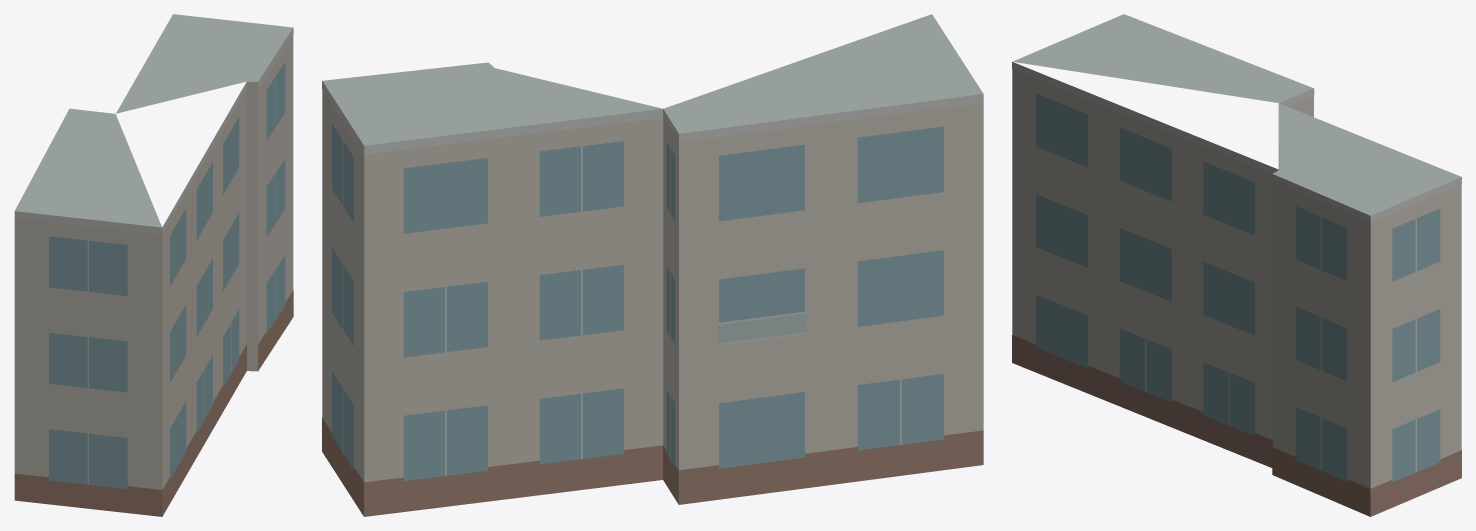
File: survey-upis-33018863.glb
The picture shows the model from 3 angles, left to right: view 1: azimuth 30°, elevation 25°; view 2: azimuth 150°, elevation 25°; view 3: azimuth 270°, elevation 25°; orthographic projection. The views are drawn at different scales.
Parts seen in each view (by area): view 1: survey-upis-33018863.tmp; view 2: survey-upis-33018863.tmp; view 3: survey-upis-33018863.tmp.
Part boxes in pixels (bbox=[...]): survey-upis-33018863.tmp: bbox=[14, 14, 293, 516]; survey-upis-33018863.tmp: bbox=[322, 14, 983, 516]; survey-upis-33018863.tmp: bbox=[1012, 14, 1461, 516].
Bounding box in the file's own units: 14.66 × 10.2 × 13.81.
